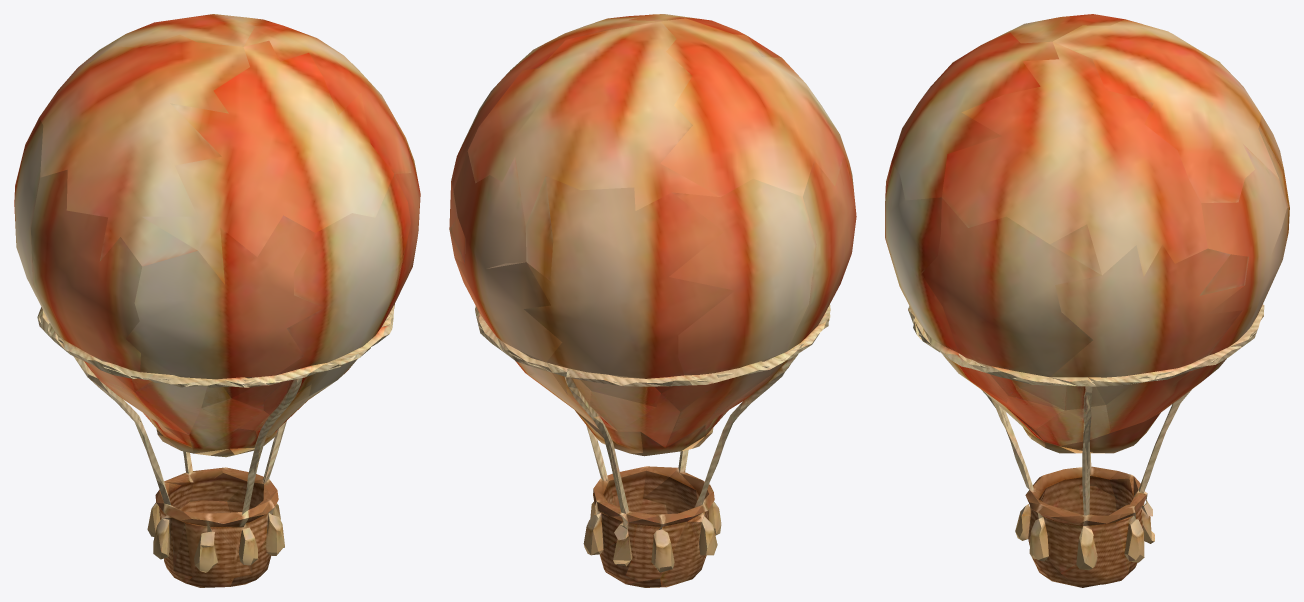
Rendered from balloon.glb.
3 renders of one model, left to right at view 1: azimuth 30°, elevation 25°; view 2: azimuth 150°, elevation 25°; view 3: azimuth 270°, elevation 25°, orthographic.
Bounding box in the file's own units: 1.31 × 1.9 × 1.3.
1 material, 1 textured.
